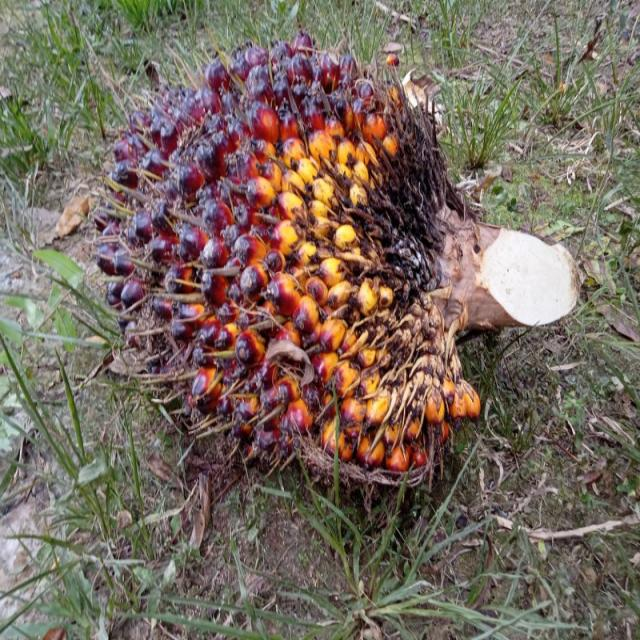fraksi 1: (103, 23, 547, 576)
